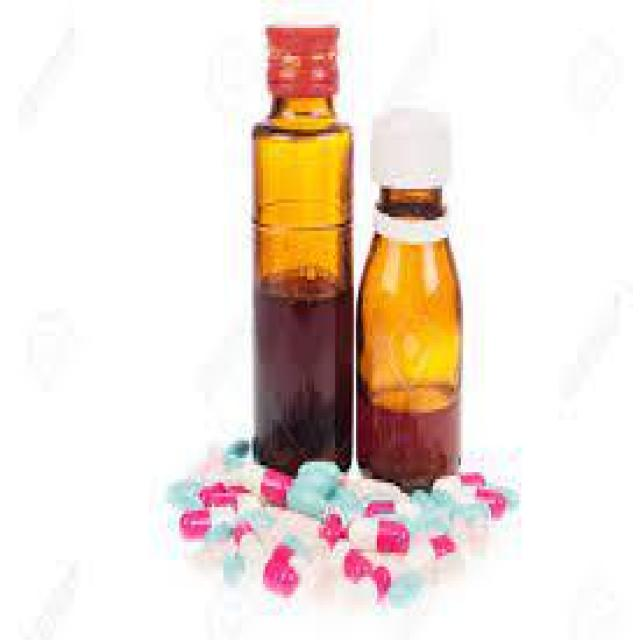B3: (240, 11, 360, 486), (344, 95, 466, 493)
